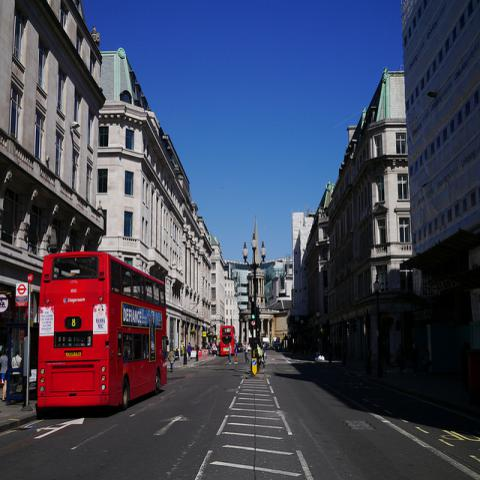bus: (34, 253, 169, 408), (220, 326, 236, 356)
